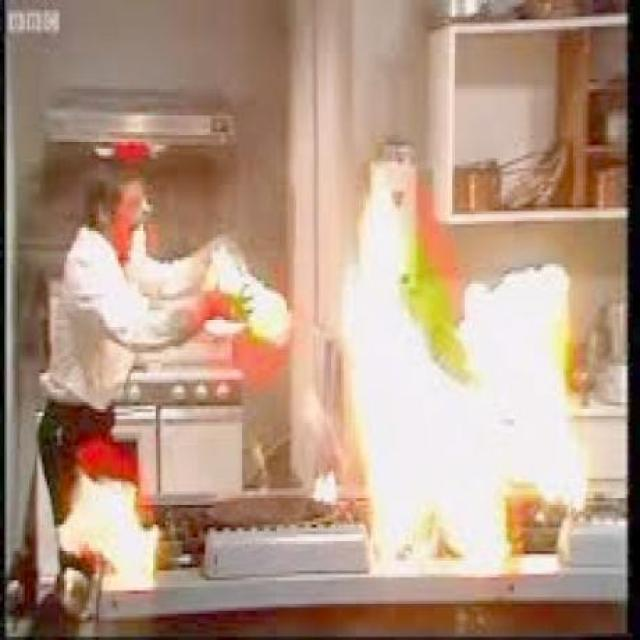Fire: (322, 168, 588, 586), (56, 468, 182, 592)
